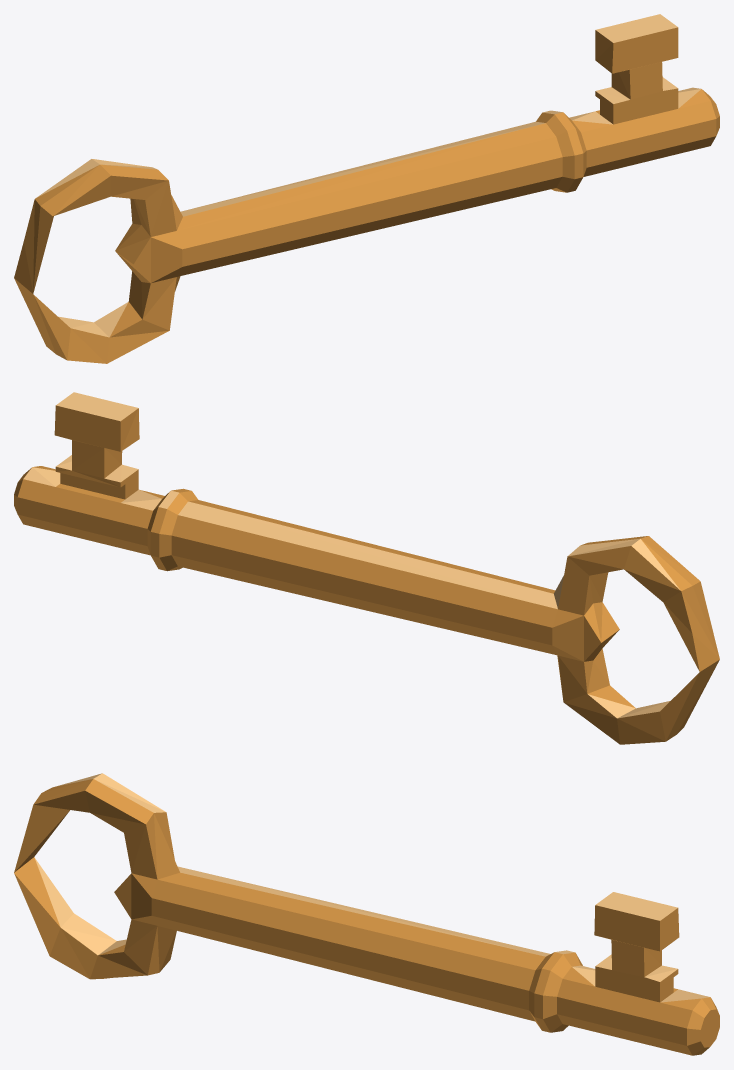
Rendered from chave.fbx.
3 renders of one model, top to bottom at view 1: azimuth 30°, elevation 25°; view 2: azimuth 150°, elevation 25°; view 3: azimuth 330°, elevation 25°, orthographic.
Parts seen in each view (by area): view 1: group_999456887; view 2: group_999456887; view 3: group_999456887.
Part boxes in pixels (x1,y1,x2,y2): group_999456887: (14,14,719,363); group_999456887: (14,392,719,744); group_999456887: (14,773,719,1055).
Bounding box in the file's own units: 500 × 142 × 50.77.
